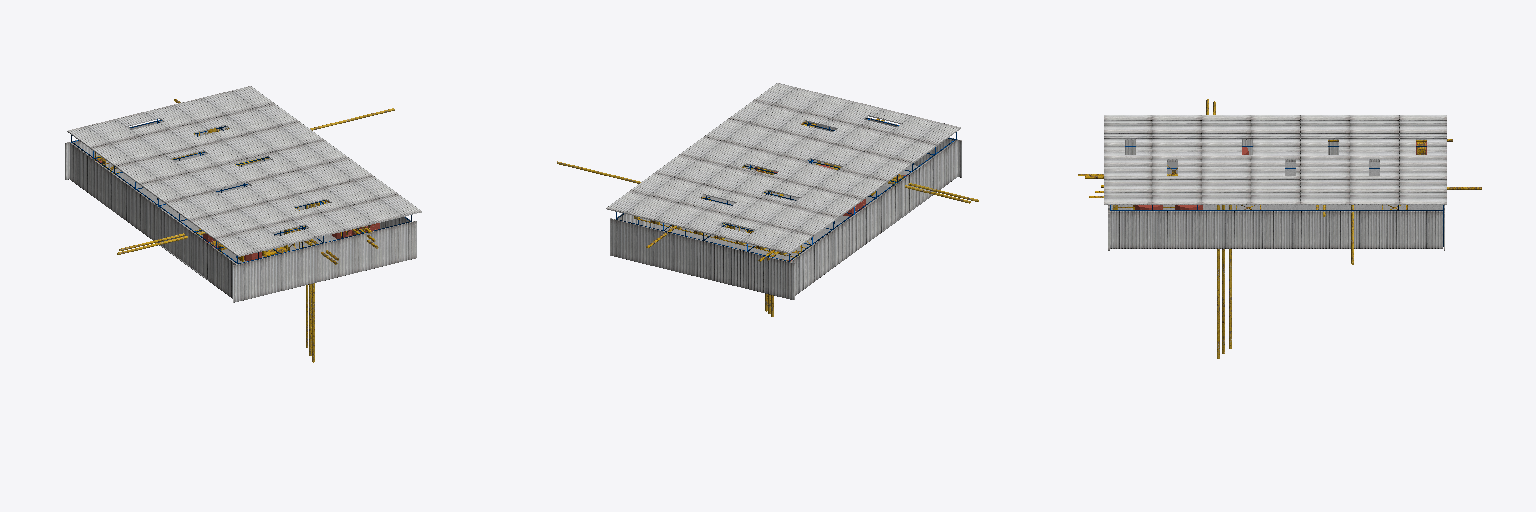
3 views of the same model, side by side, from view 1: azimuth 30°, elevation 25°; view 2: azimuth 150°, elevation 25°; view 3: azimuth 270°, elevation 25° (orthographic).
Visible parts, largest first — view 1: Box021, Box024, Box022, Plane001; view 2: Box021, Box025, Box022, Plane001; view 3: Box021, Box023, Plane001.
Part boxes in pixels (bbox=[...]): Box021: bbox=[67, 86, 421, 256]; Box024: bbox=[233, 221, 416, 302]; Box022: bbox=[70, 142, 237, 298]; Plane001: bbox=[109, 151, 336, 250]; Box021: bbox=[606, 83, 960, 253]; Box025: bbox=[610, 218, 794, 299]; Box022: bbox=[791, 140, 957, 295]; Plane001: bbox=[654, 159, 918, 259]; Box021: bbox=[1104, 115, 1446, 204]; Box023: bbox=[1109, 211, 1442, 248]; Plane001: bbox=[1111, 162, 1442, 209].
Size of the model in its own units: 60.09 by 29.59 by 60.22.
6 materials, 5 textured.